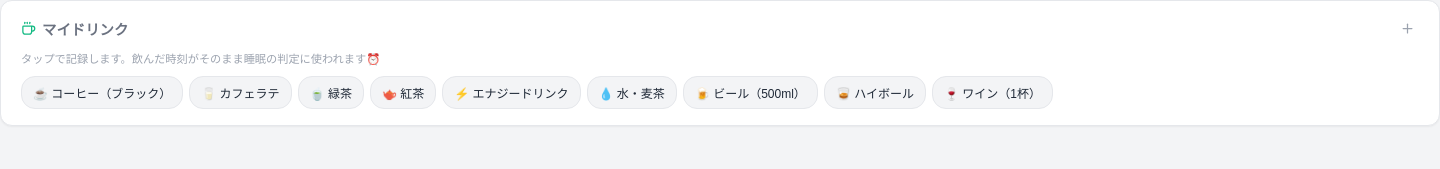
Test case: DrinkQuickLog › shows an error when logging fails
The image size is (1440, 169).
Step 1. Click the button "🍵 緑茶" → [331, 92], box [298, 76, 364, 109]
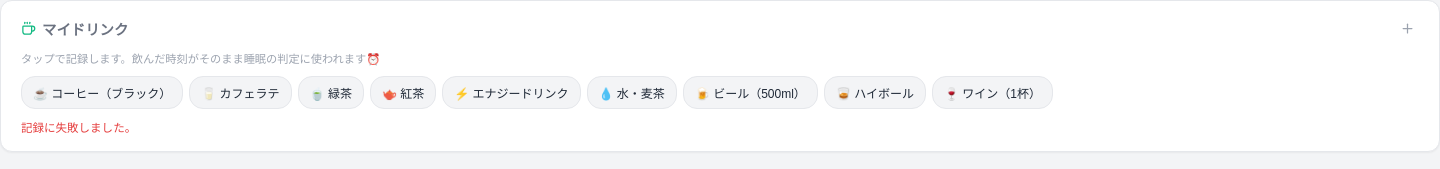
expect the message shows "記録に失敗しました": met, box [21, 121, 136, 135]
